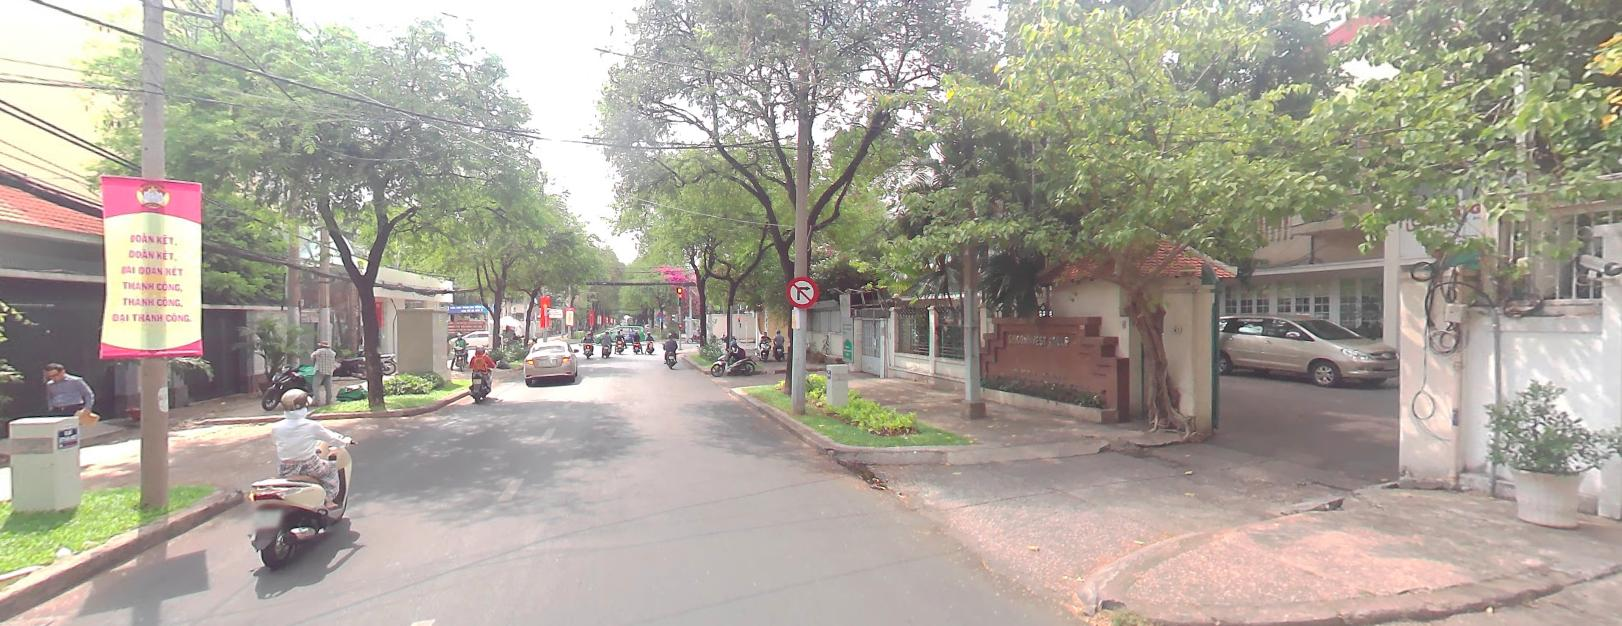Cam dung va do: (657, 310, 664, 315)
Cam re: (785, 272, 818, 307)
